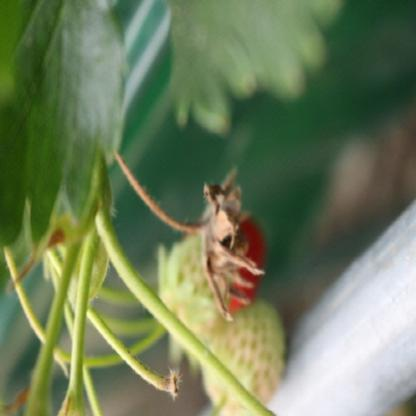Strawberry_Gray_Mold: (188, 174, 269, 323)
